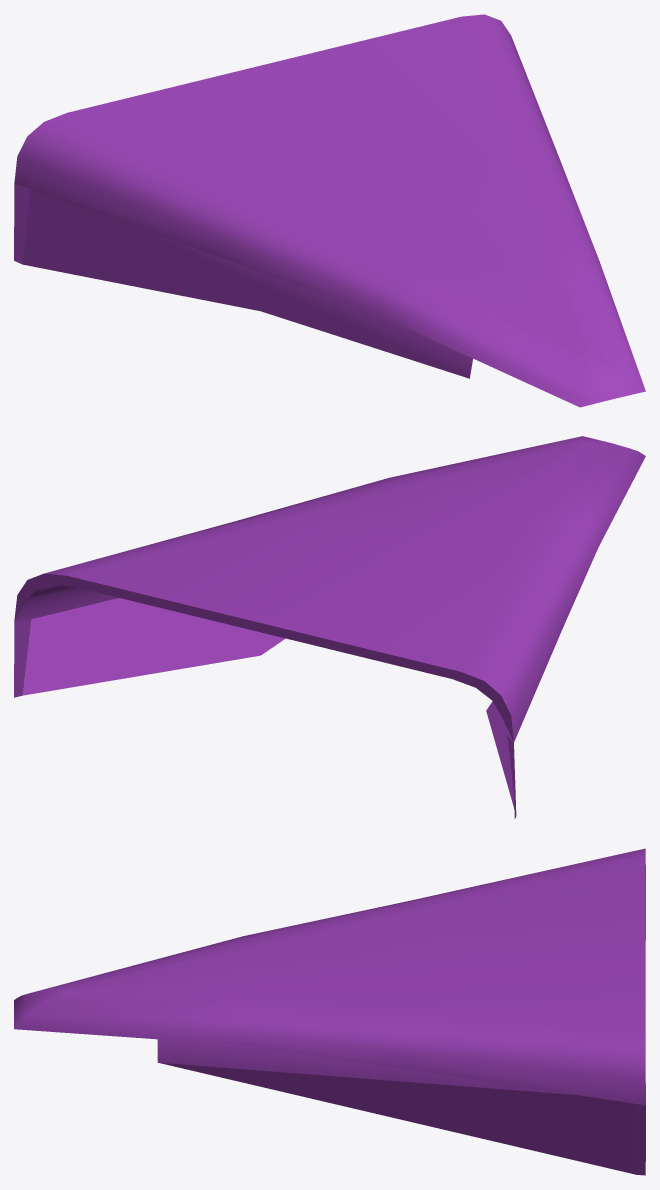
File: UpperDeckCorridor.fbx
3 views of the same model, one above another, from view 1: azimuth 30°, elevation 25°; view 2: azimuth 150°, elevation 25°; view 3: azimuth 270°, elevation 25° (orthographic). The views are drawn at different scales.
Visible parts, largest first — view 1: ShipHull_UpperDeckCorridor; view 2: ShipHull_UpperDeckCorridor; view 3: ShipHull_UpperDeckCorridor.
Part boxes in pixels (x1,y1,x2,y2): ShipHull_UpperDeckCorridor: (14, 14, 645, 407); ShipHull_UpperDeckCorridor: (14, 436, 645, 818); ShipHull_UpperDeckCorridor: (14, 848, 645, 1175).
Bounding box in the file's own units: 691 × 184 × 835.
